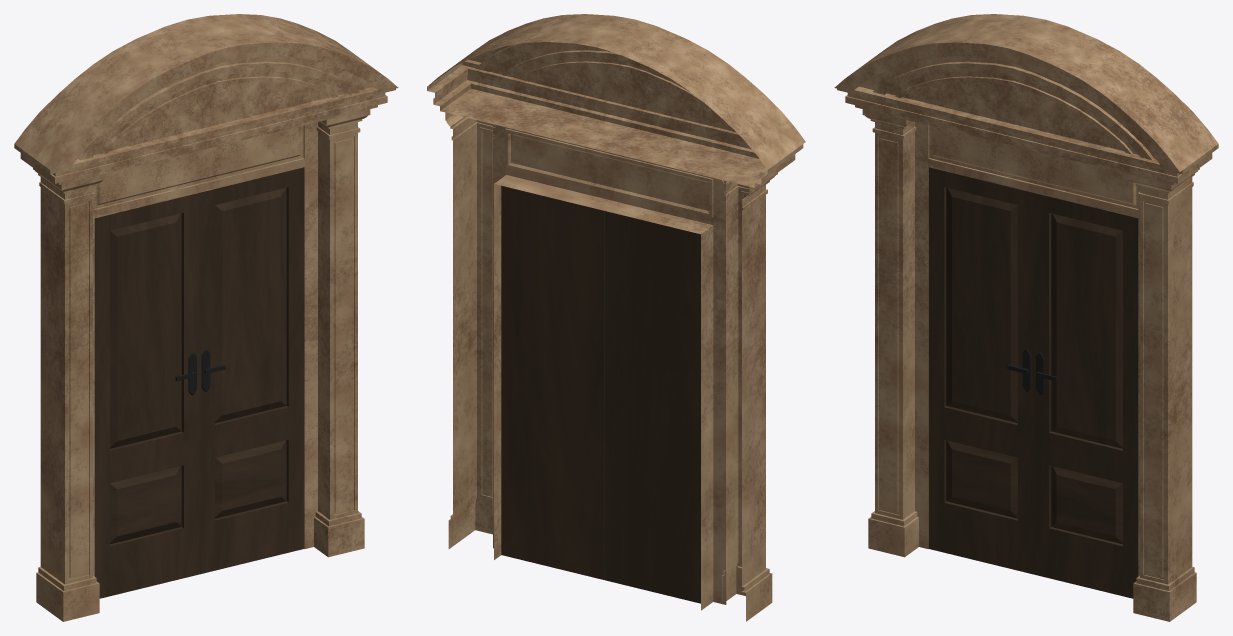
3 views of the same model, side by side, from view 1: azimuth 30°, elevation 25°; view 2: azimuth 150°, elevation 25°; view 3: azimuth 330°, elevation 25° (orthographic).
Parts seen in each view (by area): view 1: Pilasters, Door.002, Door.001, Pediment, Frame; view 2: Pediment, Door.002, Door.001, Pilasters, Frame; view 3: Pilasters, Door.001, Door.002, Pediment, Frame.
Part boxes in pixels (<box>): Pilasters: <box>33,109,370,621</box>; Door.002: <box>199,167,304,574</box>; Door.001: <box>94,193,199,598</box>; Pediment: <box>14,14,398,184</box>; Frame: <box>93,122,317,576</box>; Pediment: <box>427,14,805,187</box>; Door.002: <box>501,185,604,579</box>; Door.001: <box>605,211,700,603</box>; Pilasters: <box>445,112,777,621</box>; Frame: <box>493,124,726,610</box>; Pilasters: <box>862,109,1199,621</box>; Door.001: <box>928,167,1033,574</box>; Door.002: <box>1033,193,1138,598</box>; Pediment: <box>834,14,1218,184</box>; Frame: <box>915,122,1139,576</box>.
Size of the model in its own units: 2.14 by 3.24 by 0.4165.
3 materials, 3 textured.
